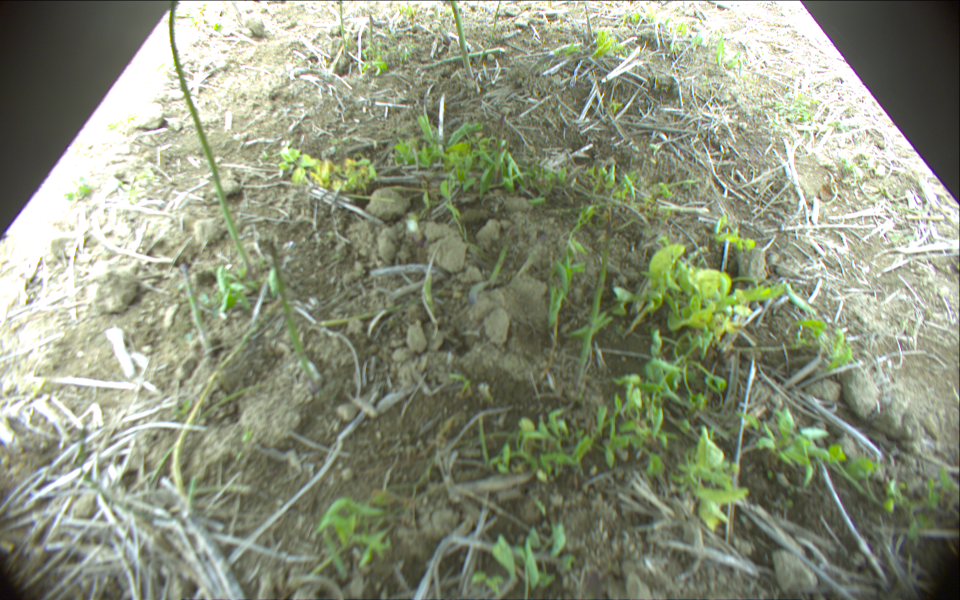aspa: (167, 1, 253, 277), (174, 303, 276, 497), (267, 240, 315, 376), (573, 220, 612, 387), (181, 264, 213, 355), (448, 1, 474, 76), (429, 46, 504, 65), (338, 1, 347, 48), (584, 6, 595, 37), (368, 16, 375, 53)
